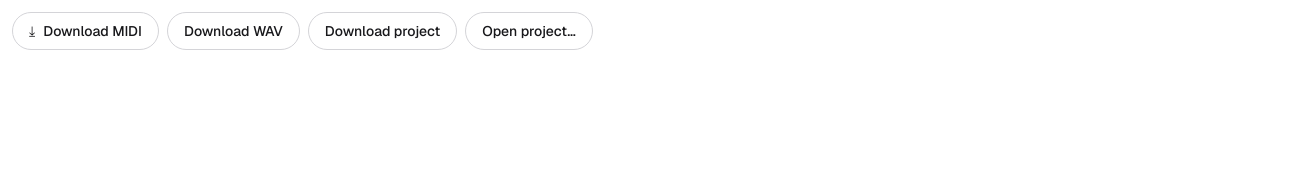
Test: Download WAV › shows an error when the render fails
Click the button "Download WAV".
click(233, 31)  # box [167,12,300,50]
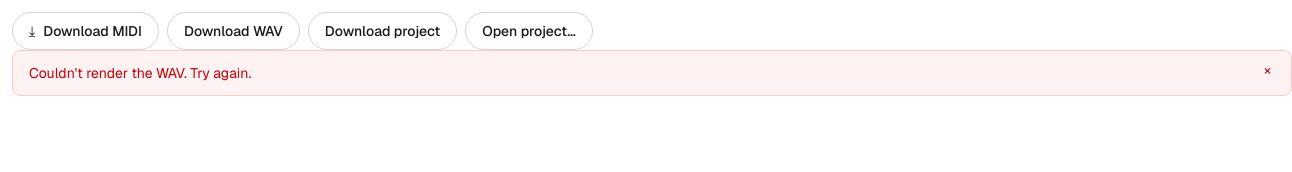
Expected: the message shows "Couldn't render the WAV", [29,64,251,82]
